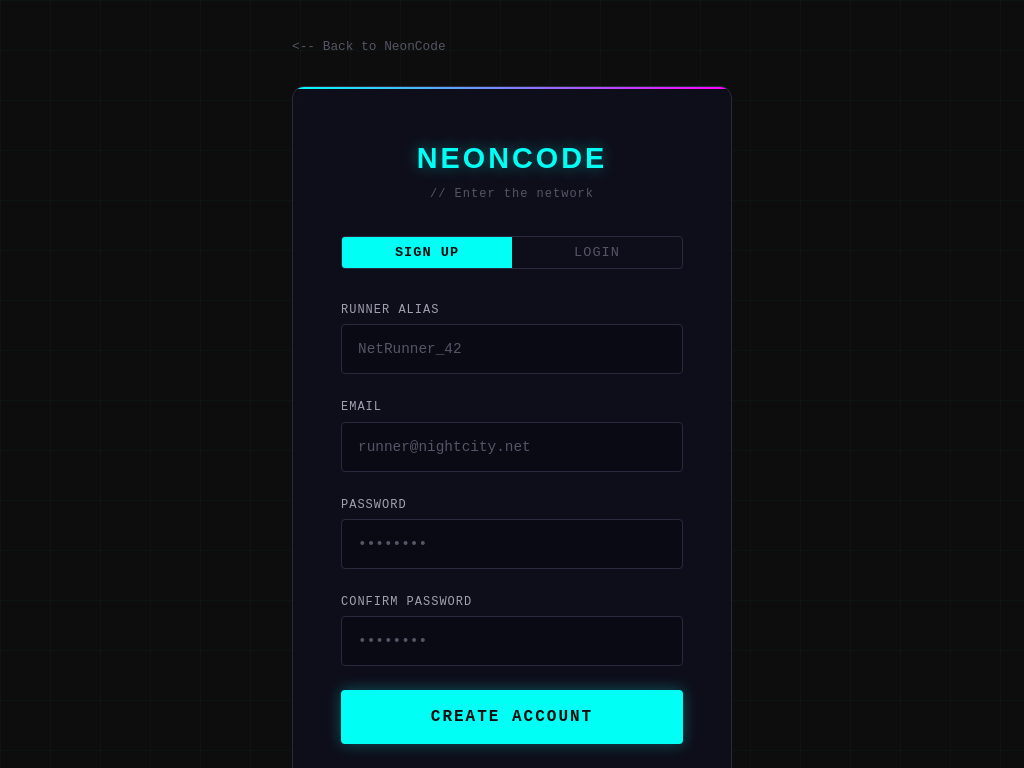
Test case: RegistrationPage › shows validation error when submitting empty sign up form
What coordinates should you click on to do the following:
click the button "Create Account"
I would click on:
 (512, 717)
Its box is [341,690,683,744].
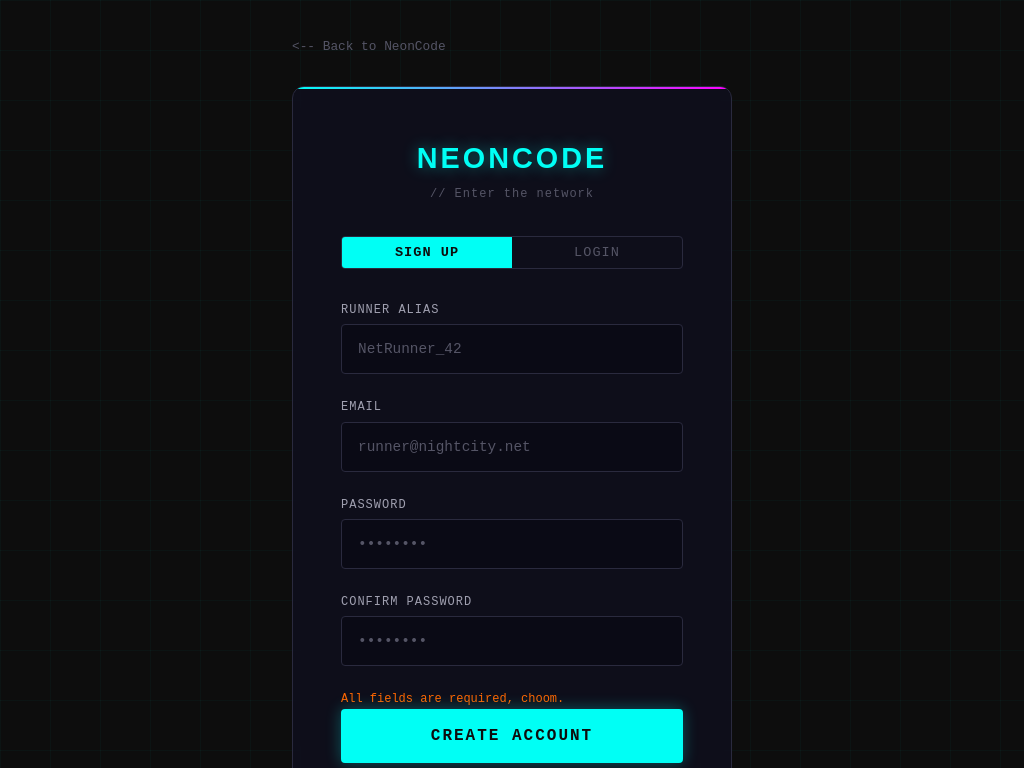
Check: the text "All fields are required, choom." is shown, box [341,692,564,706]
